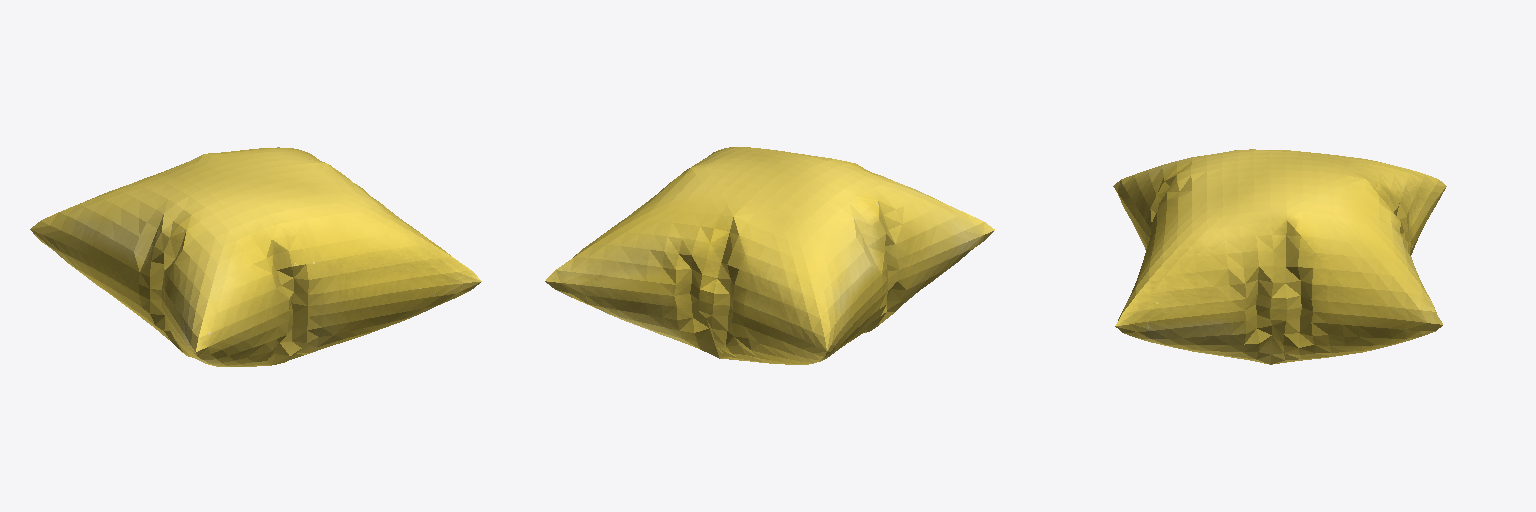
3 renders of one model, left to right at view 1: azimuth 30°, elevation 25°; view 2: azimuth 150°, elevation 25°; view 3: azimuth 270°, elevation 25°, orthographic.
Parts seen in each view (by area): view 1: Plane.003_Plane.006_None.004_None.004; view 2: Plane.003_Plane.006_None.004_None.004; view 3: Plane.003_Plane.006_None.004_None.004.
Boxes of the visible parts, x1=… form: Plane.003_Plane.006_None.004_None.004: x1=30, y1=147, x2=481, y2=366; Plane.003_Plane.006_None.004_None.004: x1=545, y1=147, x2=994, y2=364; Plane.003_Plane.006_None.004_None.004: x1=1113, y1=149, x2=1446, y2=364.
Size of the model in its own units: 1.98 by 1.08 by 1.99.
1 materials, 1 textured.